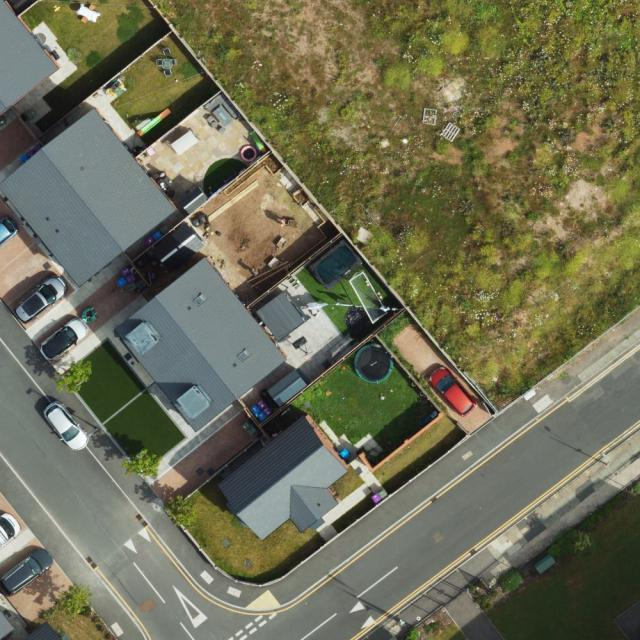roof: (0, 110, 176, 287), (114, 258, 286, 433), (218, 419, 347, 539), (0, 1, 59, 114)
skylight: (237, 348, 252, 362), (194, 293, 208, 306)
